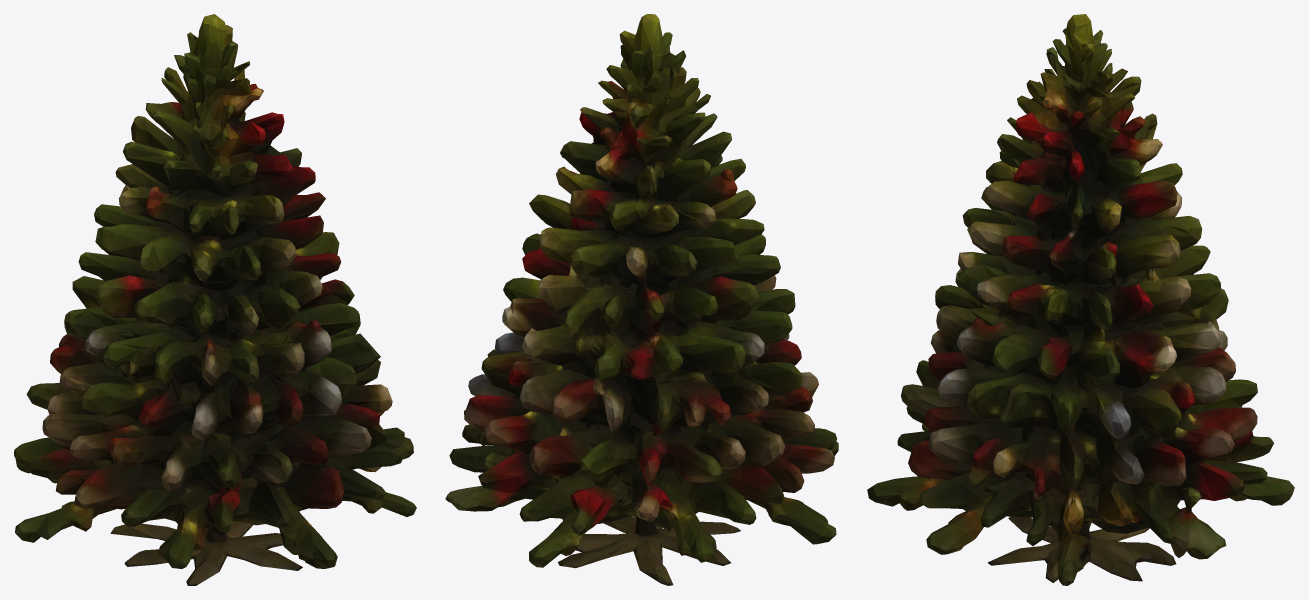
The model's file is tree_christmas_small_2.glb.
3 renders of one model, left to right at view 1: azimuth 30°, elevation 25°; view 2: azimuth 150°, elevation 25°; view 3: azimuth 270°, elevation 25°, orthographic.
Parts seen in each view (by area): view 1: geometry_0; view 2: geometry_0; view 3: geometry_0.
Part boxes in pixels (box(x1,y1,x2,y2)): geometry_0: box(14, 14, 416, 585); geometry_0: box(445, 14, 838, 585); geometry_0: box(867, 14, 1294, 585).
Bounding box in the file's own units: 0.7623 × 0.9988 × 0.732.
Materials: 1 (1 with a texture image).
